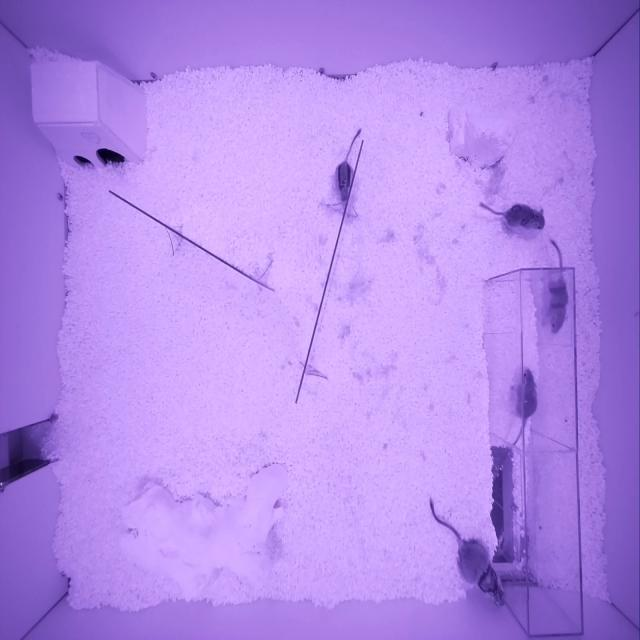adult_front: (457, 540, 505, 609)
pup_fluffy: (517, 368, 538, 417)
pup_h_stripe: (543, 277, 568, 333)
pup_spotted: (505, 204, 545, 232)
pup_v_stripe: (336, 161, 354, 206)
